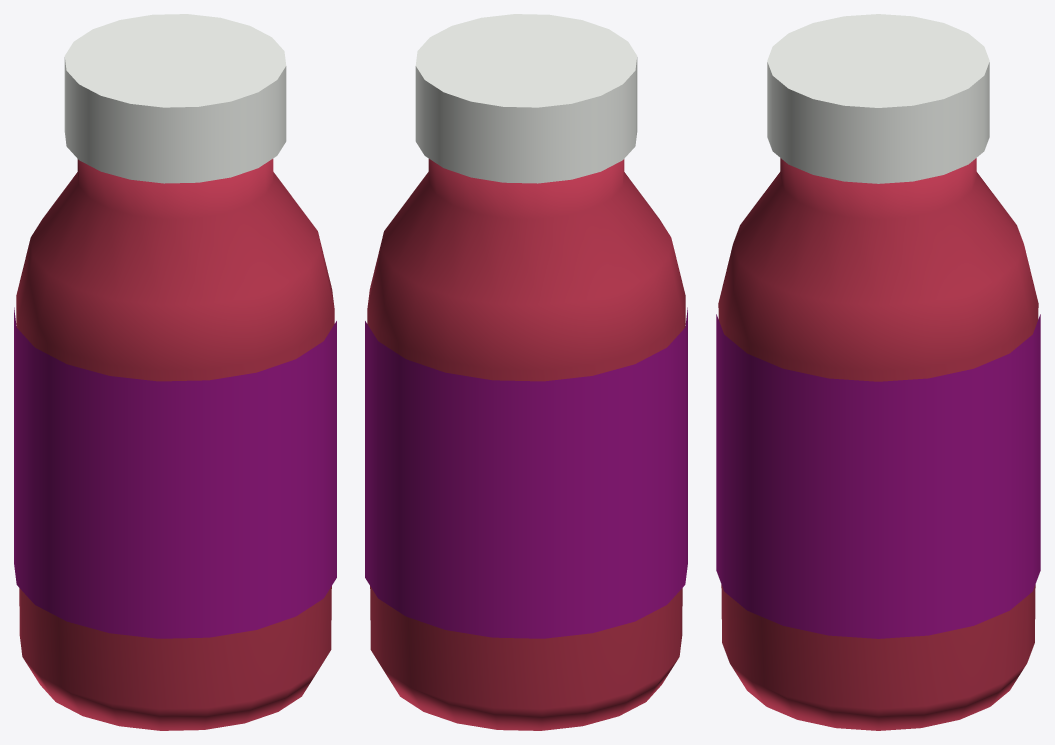
The model's file is bottle-4.glb.
3 renders of one model, left to right at view 1: azimuth 30°, elevation 25°; view 2: azimuth 150°, elevation 25°; view 3: azimuth 270°, elevation 25°, orthographic.
Parts seen in each view (by area): view 1: BrandLabel, JuiceBody, BottleCap; view 2: BrandLabel, JuiceBody, BottleCap; view 3: BrandLabel, JuiceBody, BottleCap.
Part boxes in pixels (<box>): BrandLabel: <box>14,307,336,638</box>; JuiceBody: <box>16,159,334,730</box>; BottleCap: <box>64,14,286,183</box>; BrandLabel: <box>365,307,687,638</box>; JuiceBody: <box>367,159,685,730</box>; BottleCap: <box>415,14,637,183</box>; BrandLabel: <box>716,314,1040,638</box>; JuiceBody: <box>718,158,1038,730</box>; BottleCap: <box>767,14,989,183</box>.
Bounding box in the file's own units: 0.446 × 0.9275 × 0.446.
